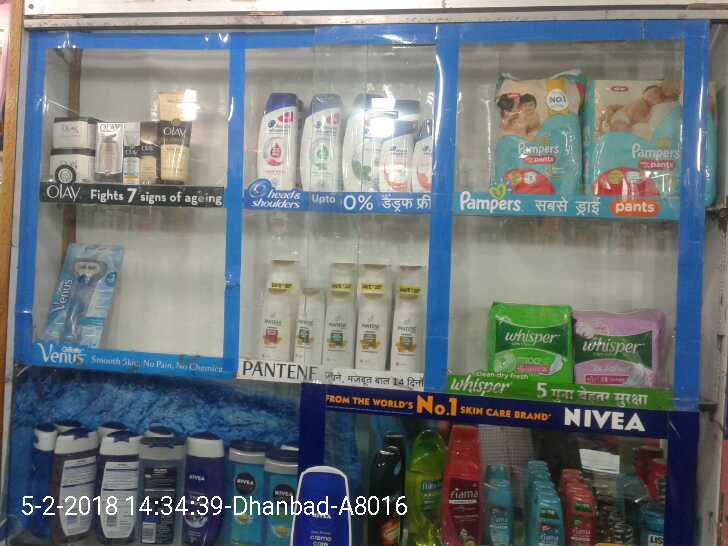venus: (53, 245, 109, 345)
